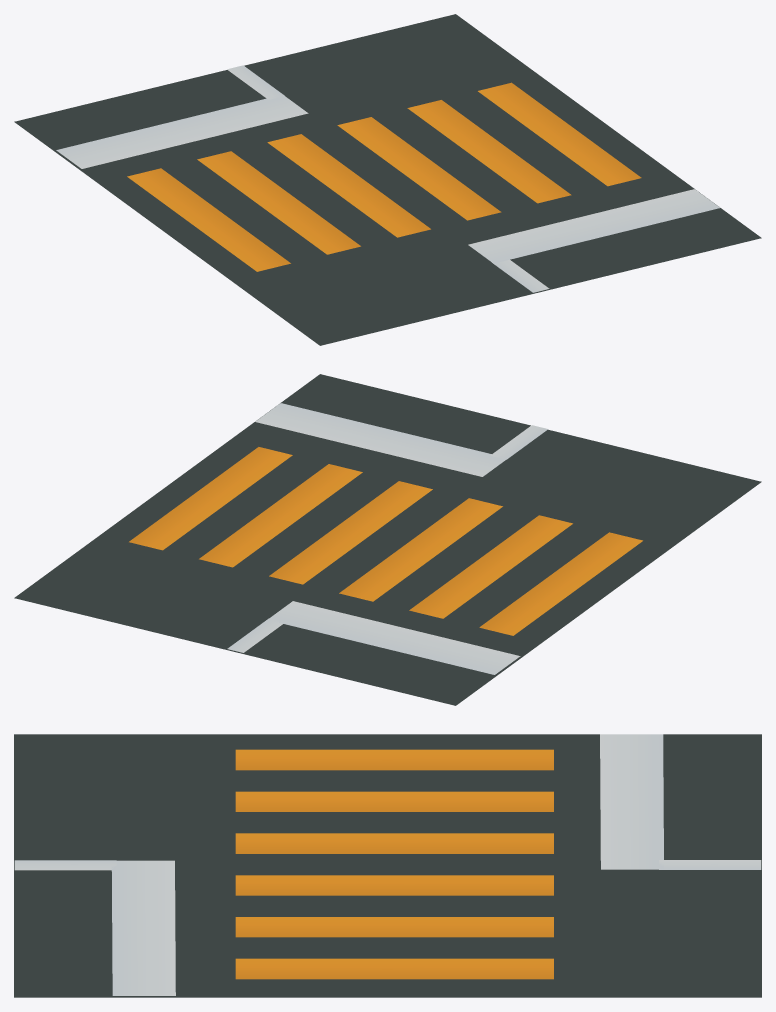
File: Road_2_105.fbx
3 renders of one model, top to bottom at view 1: azimuth 30°, elevation 25°; view 2: azimuth 150°, elevation 25°; view 3: azimuth 270°, elevation 25°, orthographic. The views are drawn at different scales.
Visible parts, largest first — view 1: Road_2_105; view 2: Road_2_105; view 3: Road_2_105.
Part boxes in pixels (x1=…): Road_2_105: x1=14, y1=14, x2=761, y2=345; Road_2_105: x1=14, y1=374, x2=761, y2=705; Road_2_105: x1=14, y1=734, x2=761, y2=997.
Bounding box in the file's own units: 900 × 1.66 × 1080.
